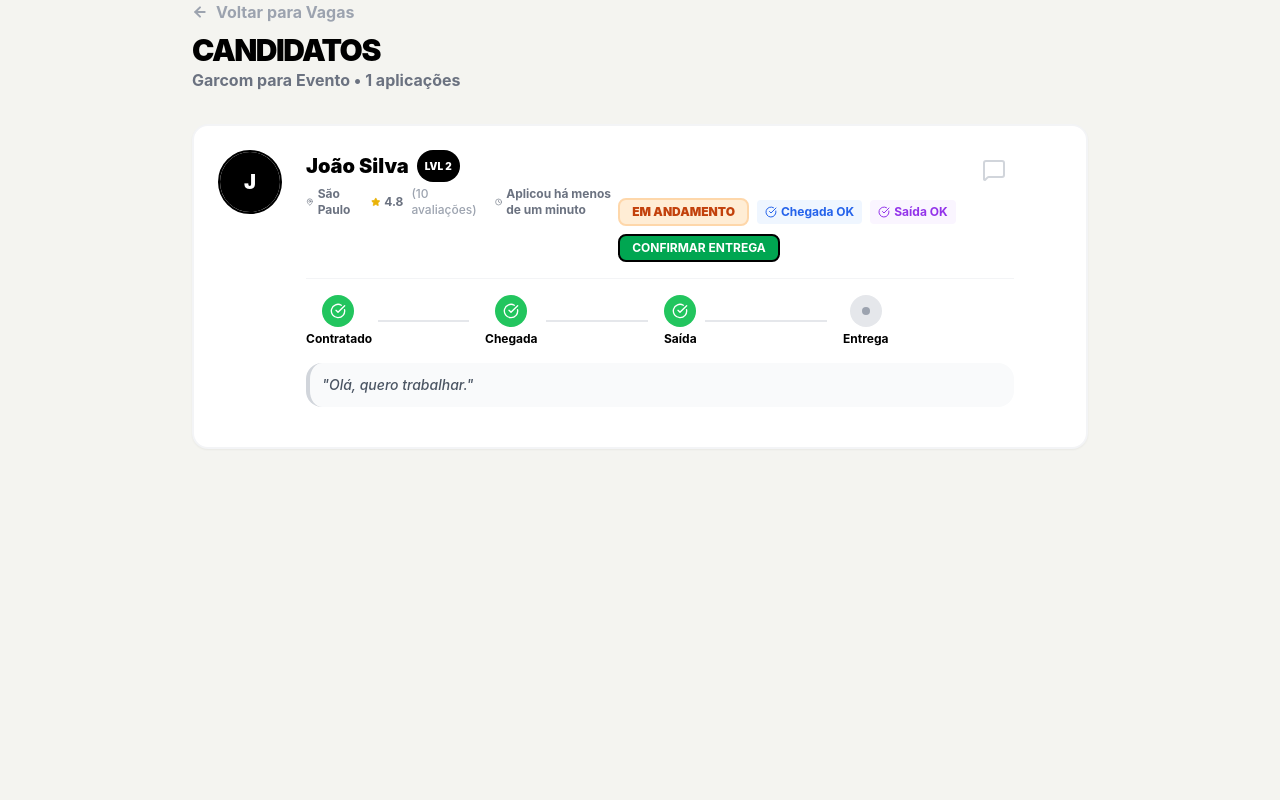
Test: CompanyJobCandidates — modal de confirmação de entrega › modal de confirmação abre ao clicar botão Confirmar Entrega
The width and height of the screenshot is (1280, 800).
Expected: the heading "João Silva Lvl 2" is shown, [306, 150, 460, 182]
Step 1. Click the button "Confirmar Entrega" → (699, 248), box [618, 234, 780, 262]
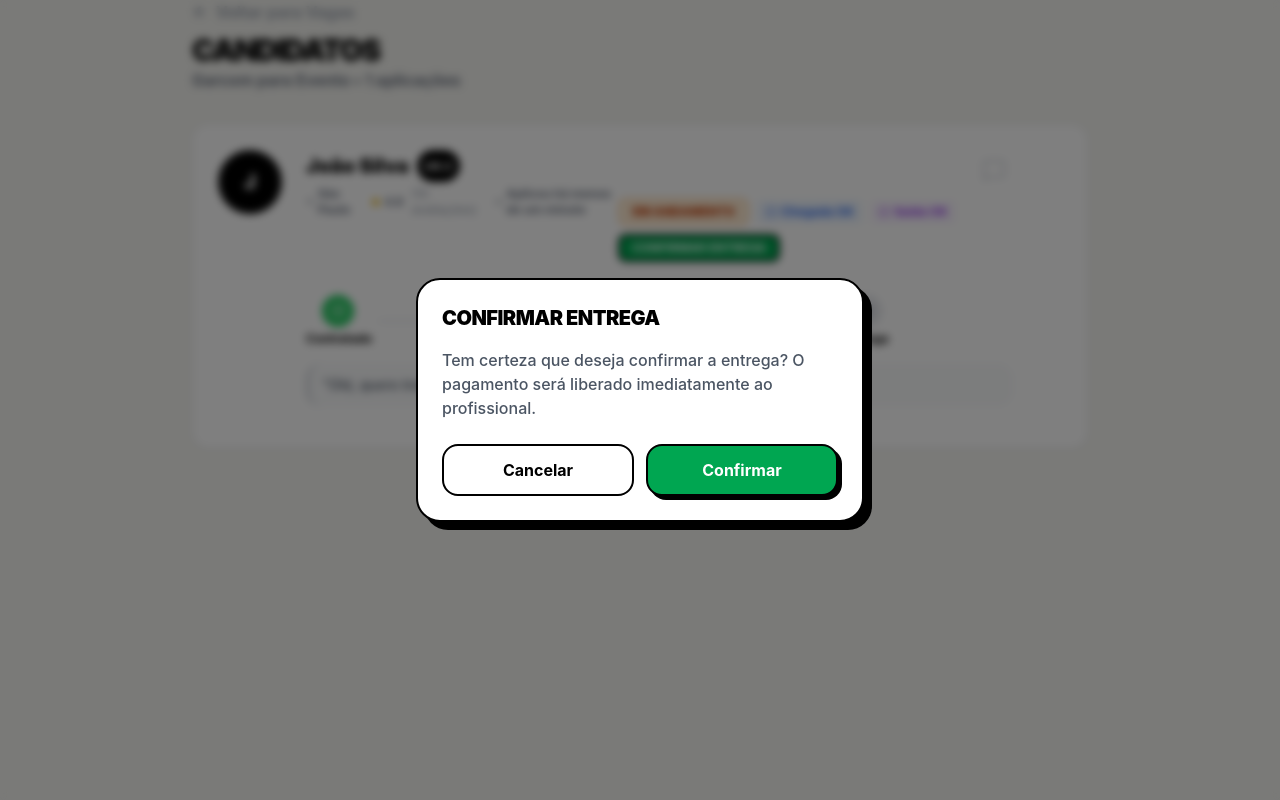
Now the heading "Confirmar Entrega" is shown, box [442, 306, 660, 330]
Now the text "O pagamento será liberado imediatamente ao profissional" is shown, box [442, 350, 805, 418]
